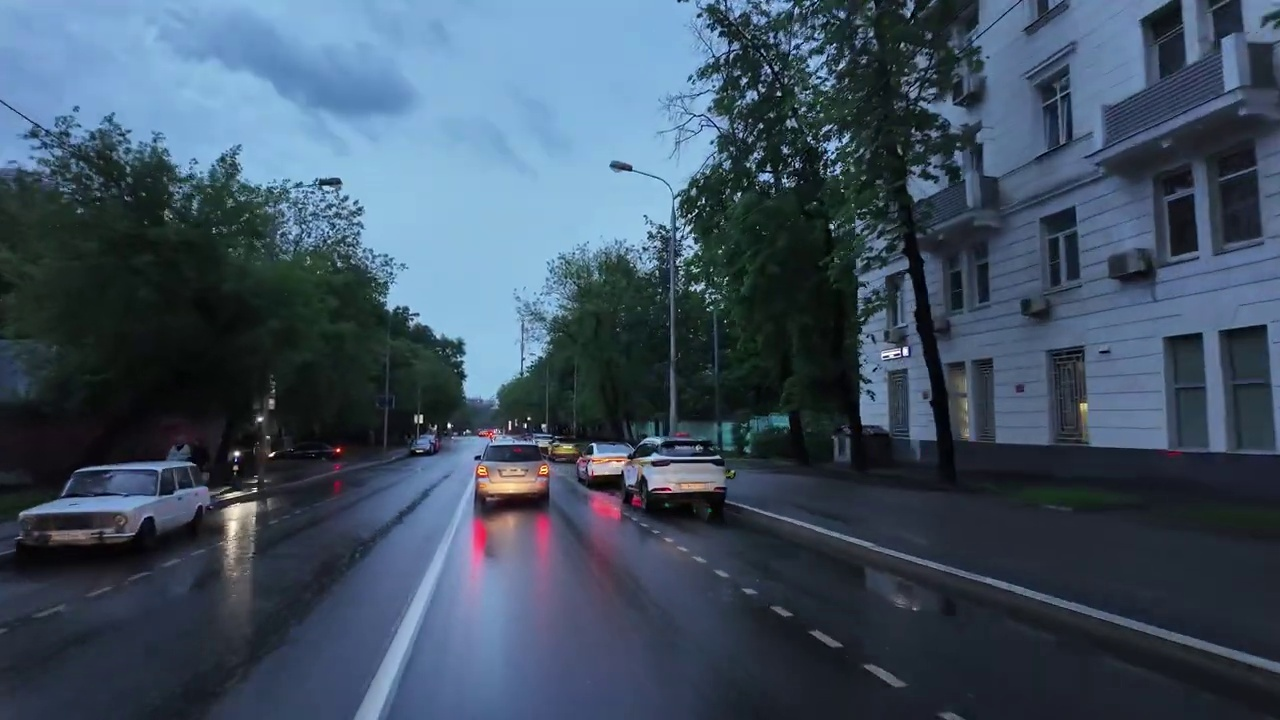apagada: (313, 166, 348, 198), (606, 154, 638, 182)
